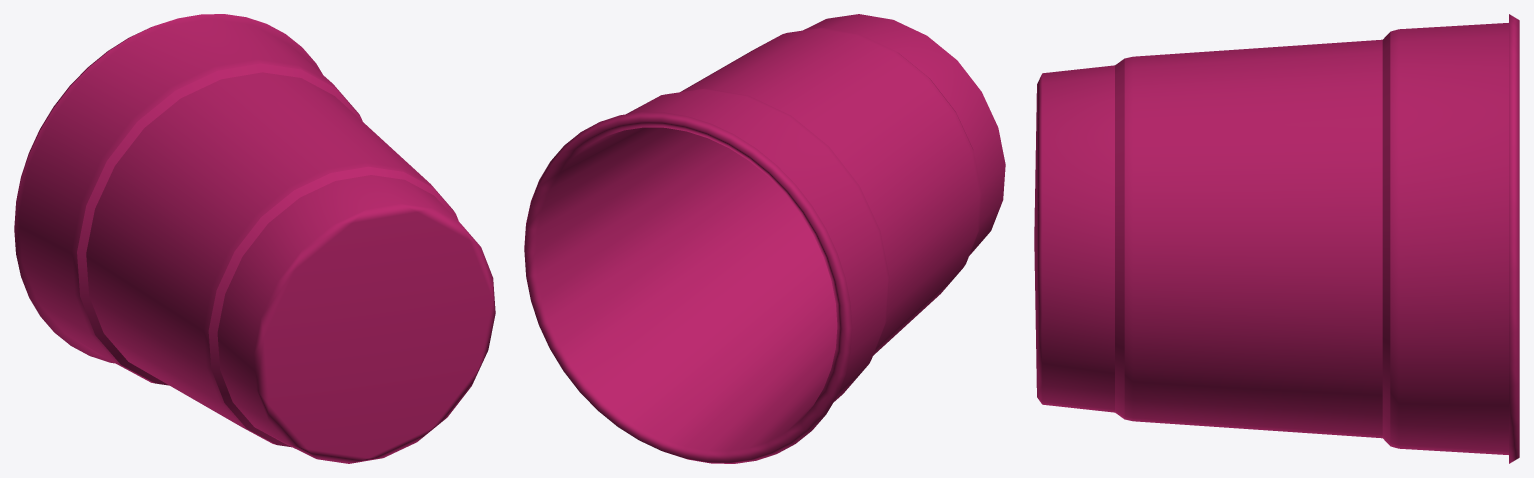
The model's file is SM_Dishes_19.fbx.
The picture shows the model from 3 angles, left to right: view 1: azimuth 30°, elevation 25°; view 2: azimuth 150°, elevation 25°; view 3: azimuth 270°, elevation 25°; orthographic projection. The views are drawn at different scales.
Visible parts, largest first — view 1: SM_Dishes_19; view 2: SM_Dishes_19; view 3: SM_Dishes_19.
Boxes of the visible parts, x1,y1,x2,y2 form: SM_Dishes_19: [14, 14, 495, 463]; SM_Dishes_19: [524, 14, 1005, 463]; SM_Dishes_19: [1034, 14, 1519, 463].
Size of the model in its own units: 8.48 by 8.48 by 9.15.
